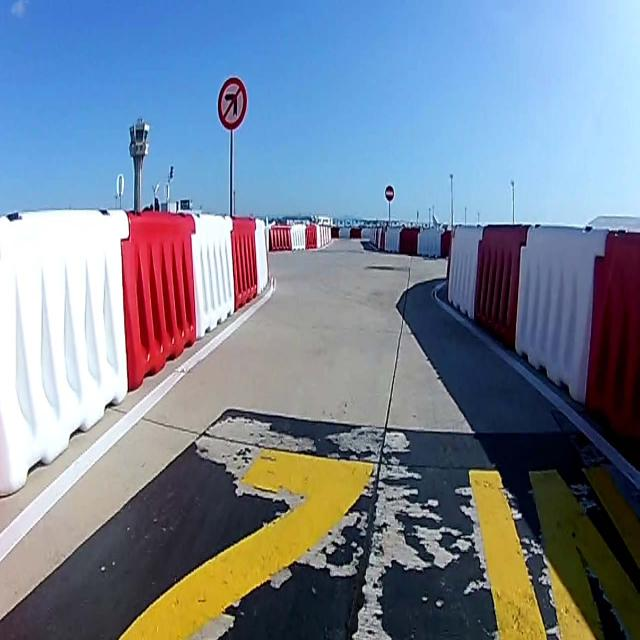soladonulmez: (218, 78, 246, 129)
